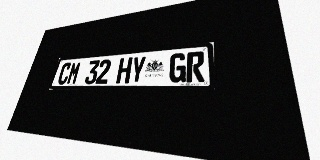2: (95, 59, 112, 84)
3: (84, 60, 100, 84)
C: (56, 62, 72, 85)
G: (168, 53, 186, 83)
H: (116, 57, 133, 84)
M: (66, 61, 82, 85)
R: (186, 51, 205, 82)
Y: (129, 56, 147, 83)
